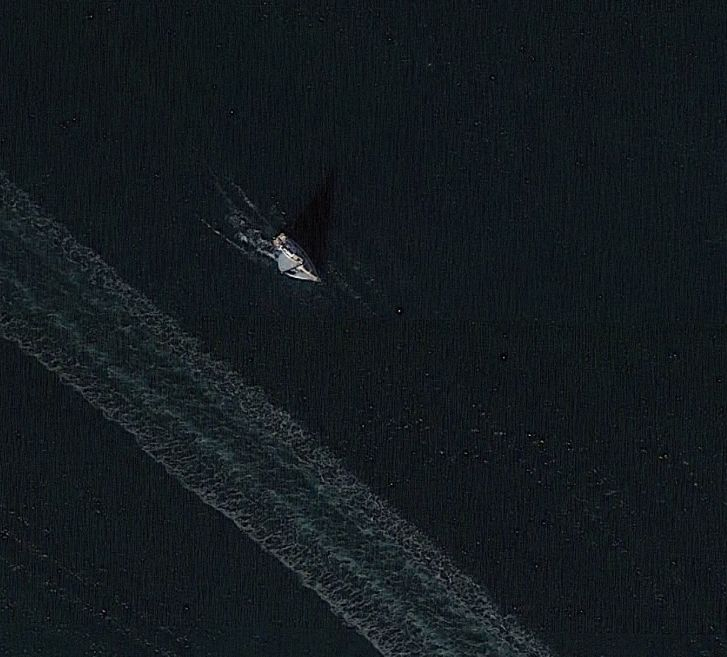boat: (262, 226, 327, 289)
